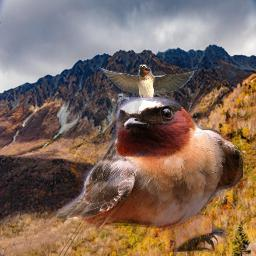Swallow: (57, 97, 243, 252), (98, 64, 197, 119)
